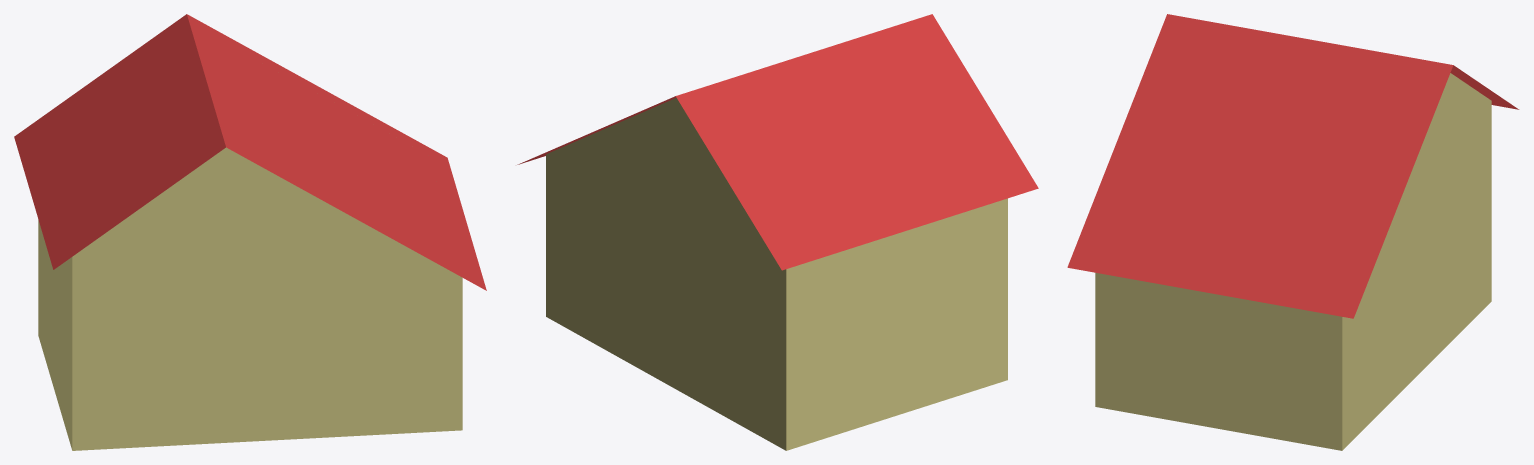
3 renders of one model, left to right at view 1: azimuth 30°, elevation 25°; view 2: azimuth 150°, elevation 25°; view 3: azimuth 270°, elevation 25°, orthographic. The views are drawn at different scales.
Bounding box in the file's own units: 18.1 × 15.93 × 11.57.
